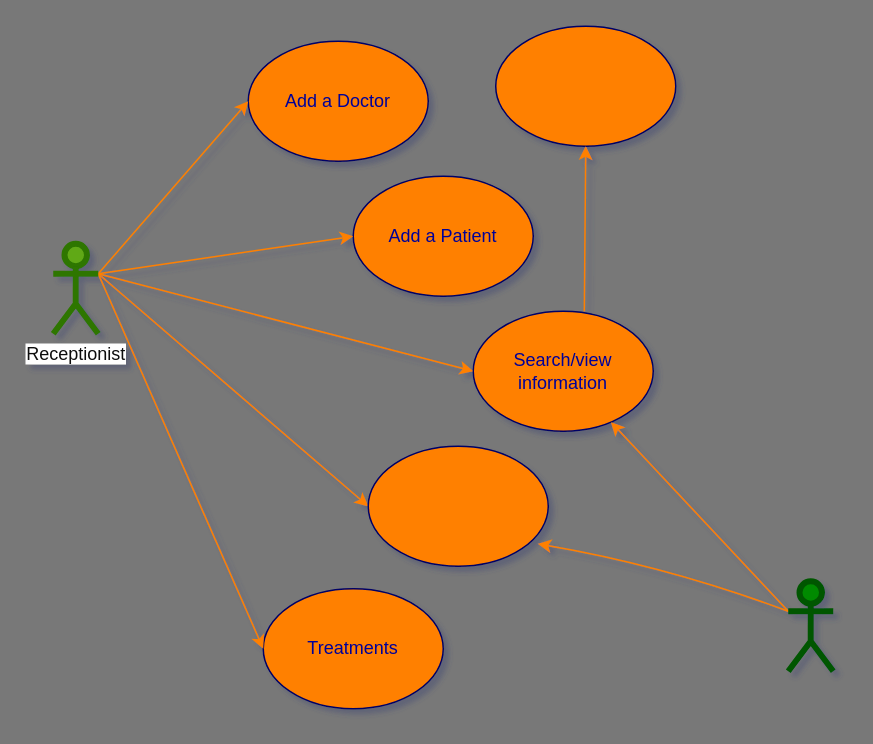
Some shapes in this 873 by 744 pixel diagram are drawn without their labels. Here are the shapes that lost their labels. From the top down, the centre of each, then its label:
(585,85): Edit information
(457,505): Appointments
(810,626): Patient
